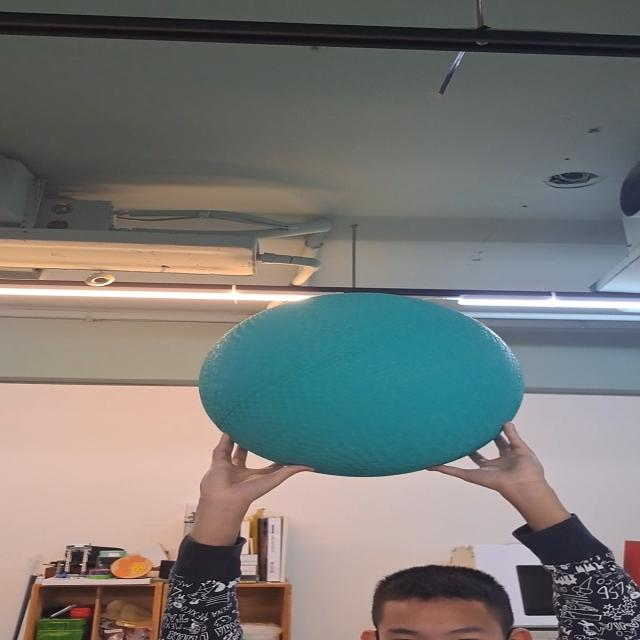ALGAE: (199, 294, 523, 478)
